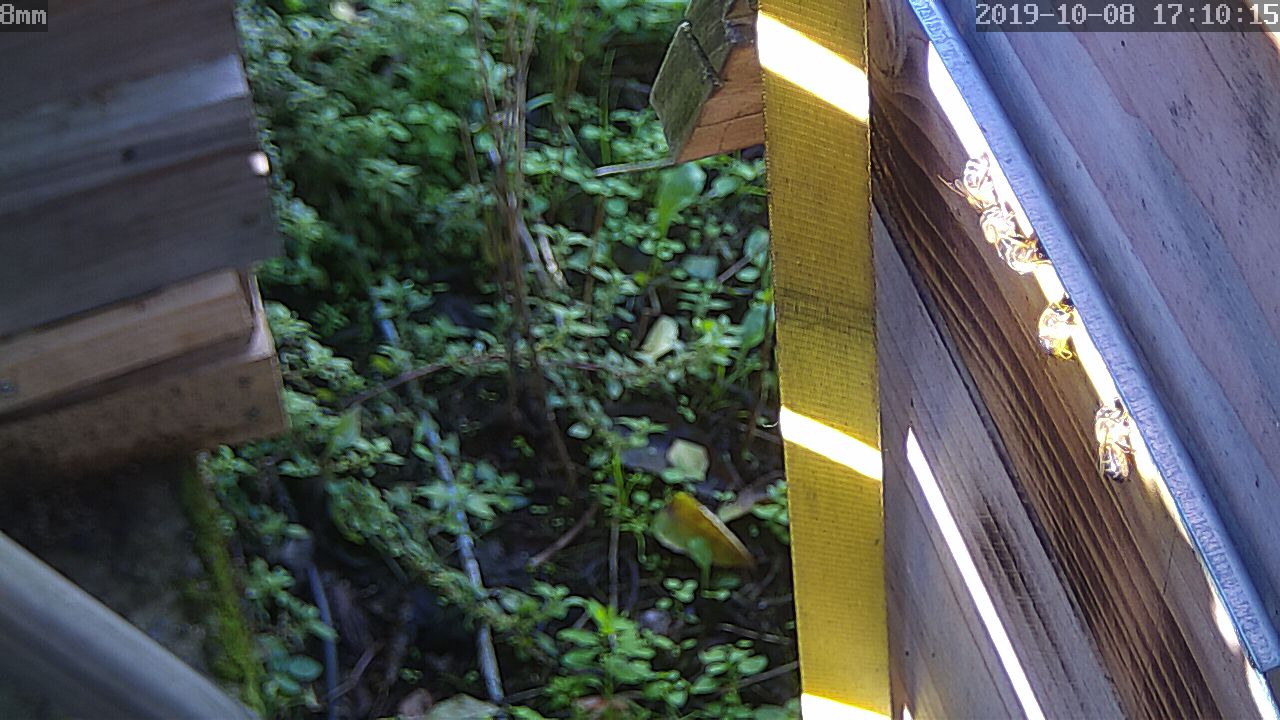bee: (952, 151, 1058, 280), (1089, 395, 1152, 492), (1038, 297, 1081, 372)
